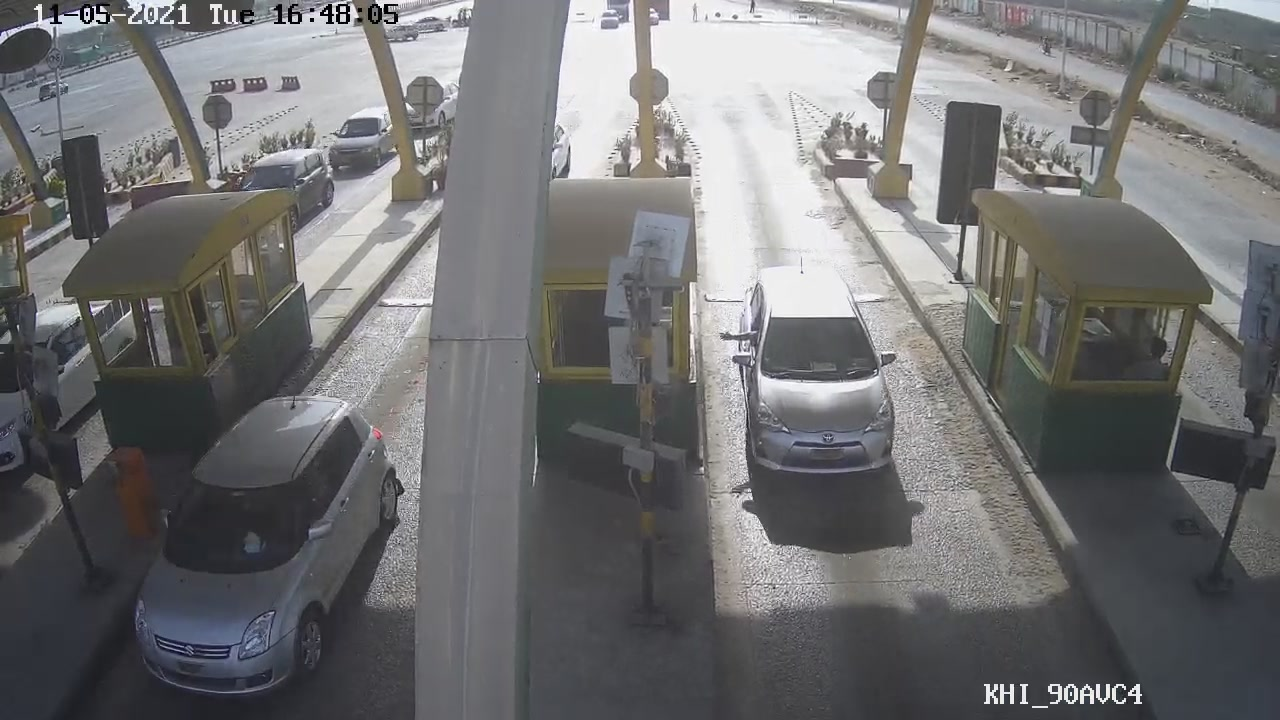F1: (725, 249, 905, 486)
